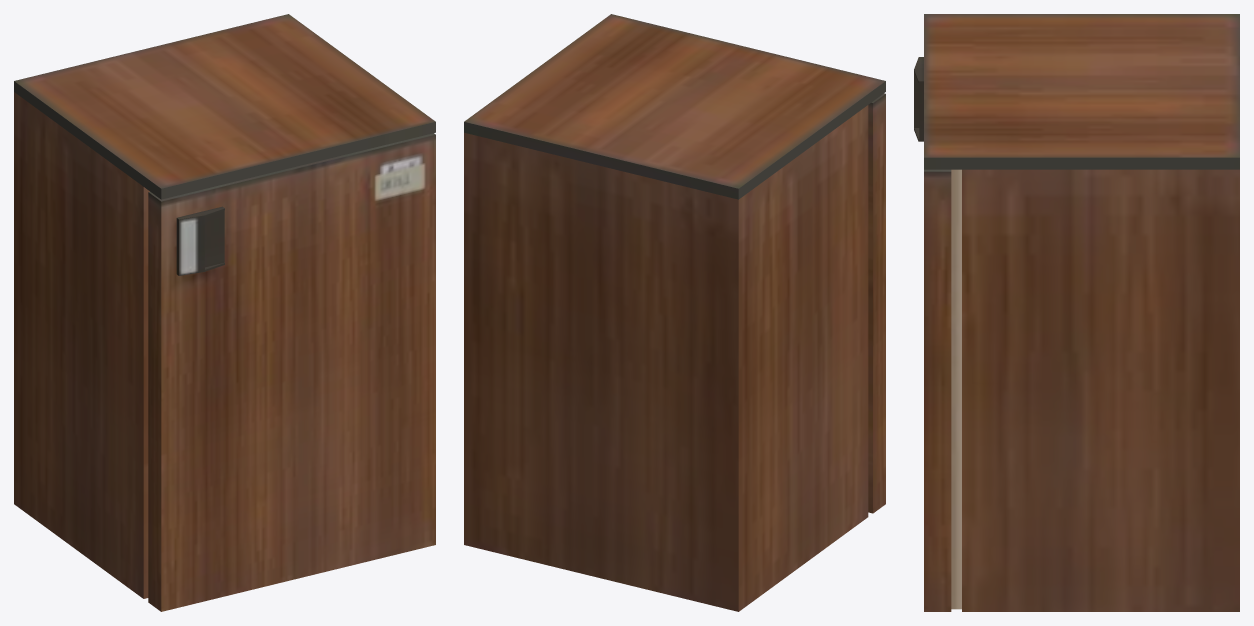
The model's file is 80s_avanti_mini_fridge.glb.
3 views of the same model, side by side, from view 1: azimuth 30°, elevation 25°; view 2: azimuth 150°, elevation 25°; view 3: azimuth 270°, elevation 25° (orthographic). The views are drawn at different scales.
Parts seen in each view (by area): view 1: Object_2; view 2: Object_2; view 3: Object_2.
Boxes of the visible parts, x1,y1,x2,y2 form: Object_2: (14, 14, 435, 611); Object_2: (464, 14, 885, 611); Object_2: (914, 14, 1239, 611).
Bounding box in the file's own units: 4.48 × 6.6 × 4.29.
1 material, 1 textured.
